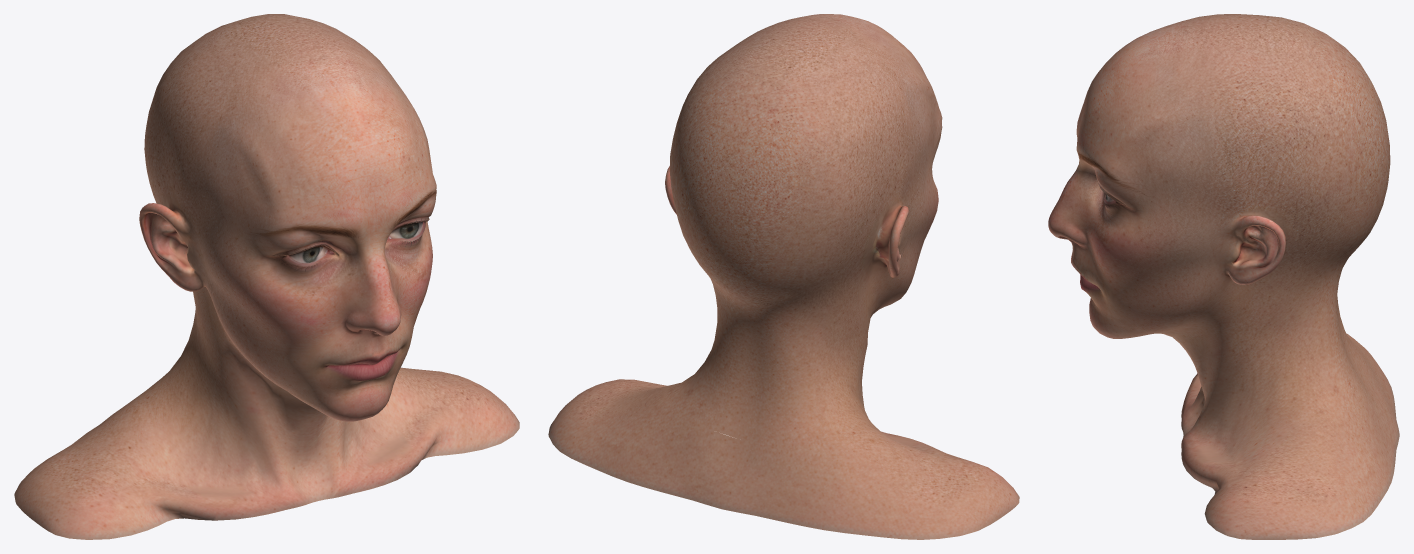
The model's file is second-identity-head-p2-v1.fbx.
The picture shows the model from 3 angles, left to right: view 1: azimuth 30°, elevation 25°; view 2: azimuth 150°, elevation 25°; view 3: azimuth 270°, elevation 25°; orthographic projection. The views are drawn at different scales.
Parts seen in each view (by area): view 1: tripo_075f4afd_3b73_4354_baab_a9e465c84072; view 2: tripo_075f4afd_3b73_4354_baab_a9e465c84072; view 3: tripo_075f4afd_3b73_4354_baab_a9e465c84072.
Part boxes in pixels (box(x1,y1,x2,y2)): tripo_075f4afd_3b73_4354_baab_a9e465c84072: box(14, 14, 519, 539); tripo_075f4afd_3b73_4354_baab_a9e465c84072: box(548, 14, 1019, 539); tripo_075f4afd_3b73_4354_baab_a9e465c84072: box(1048, 14, 1399, 539).
Bounding box in the file's own units: 0.9995 × 0.9126 × 0.7075.
Materials: 1 (1 with a texture image).
